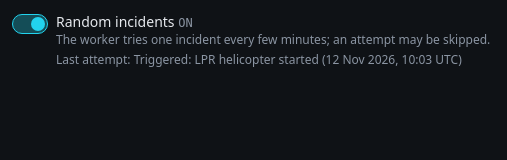
Test: RandomIncidentsControl › turns off again
What coordinates should you click on to do the following:
click the switch named "Random incidents"
I would click on:
 (30, 24)
Its box is top-left (12, 14), bottom-right (48, 34).
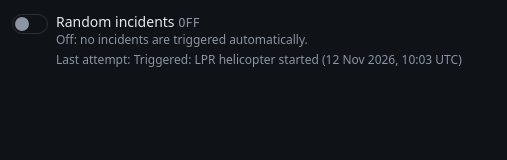
Expected: the switch is not checked, top-left (12, 14), bottom-right (48, 34)
